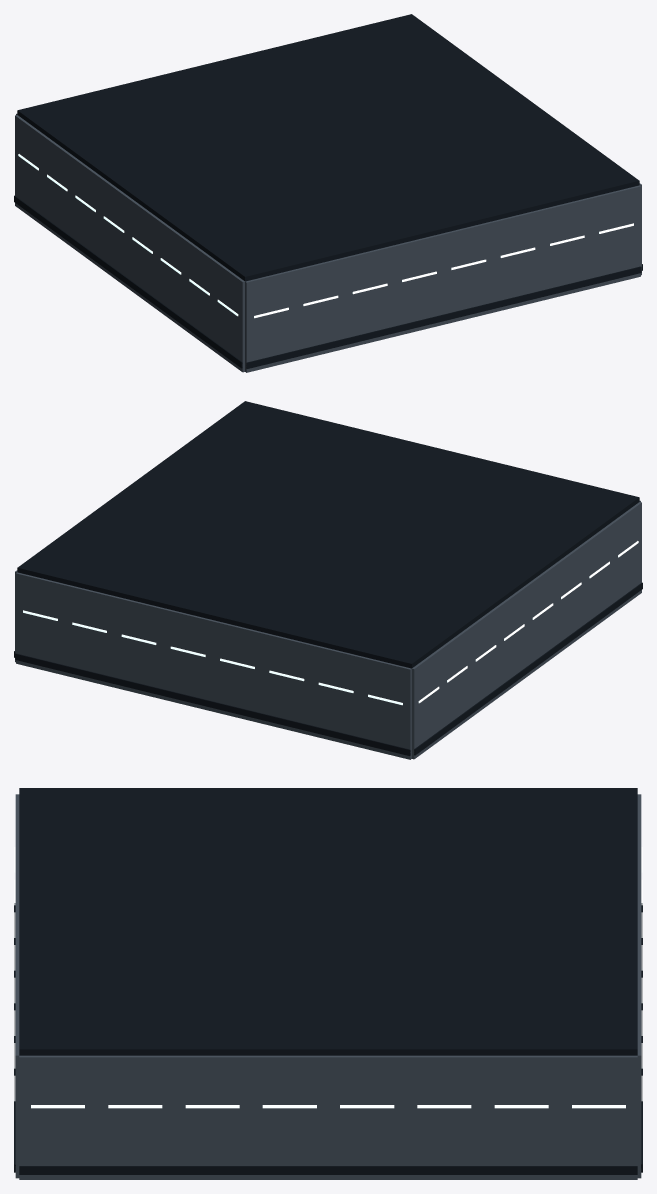
The model's file is np_z03_zone_synthese.glb.
The picture shows the model from 3 angles, top to bottom: view 1: azimuth 30°, elevation 25°; view 2: azimuth 150°, elevation 25°; view 3: azimuth 270°, elevation 25°; orthographic projection. The views are drawn at different scales.
Visible parts, largest first — view 1: Panneau18, Panneau30, Panneau20, Panneau22, Panneau26, Panneau32, Panneau24, Panneau28, Panneau15, Panneau13, Panneau5, Panneau (+68 smaller); view 2: Panneau17, Panneau29, Panneau19, Panneau21, Panneau25, Panneau31, Panneau23, Panneau27, Panneau, Panneau3, Panneau11, Panneau5 (+68 smaller); view 3: Panneau4, Panneau6, Panneau12, Panneau14, Panneau2, Panneau8, Panneau16, Panneau10, Dalle114, Dalle120, Dalle128, Dalle116 (+70 smaller).
Part boxes in pixels (left/top/right/bottom): Panneau18: left=245, top=269, right=295, bottom=372; Panneau30: left=541, top=197, right=591, bottom=300; Panneau20: left=294, top=257, right=345, bottom=360; Panneau22: left=344, top=245, right=394, bottom=348; Panneau26: left=442, top=221, right=492, bottom=324; Panneau32: left=590, top=185, right=640, bottom=288; Panneau24: left=393, top=233, right=443, bottom=336; Panneau28: left=492, top=209, right=542, bottom=312; Panneau15: left=214, top=261, right=244, bottom=372; Panneau13: left=185, top=240, right=216, bottom=351; Panneau5: left=72, top=156, right=102, bottom=267; Panneau: left=15, top=115, right=45, bottom=225; Panneau17: left=361, top=656, right=411, bottom=759; Panneau29: left=65, top=584, right=115, bottom=687; Panneau19: left=311, top=644, right=362, bottom=747; Panneau21: left=262, top=632, right=312, bottom=735; Panneau25: left=164, top=608, right=214, bottom=711; Panneau31: left=16, top=572, right=66, bottom=675; Panneau23: left=213, top=620, right=263, bottom=723; Panneau27: left=114, top=596, right=164, bottom=699; Panneau: left=412, top=648, right=442, bottom=759; Panneau3: left=440, top=627, right=471, bottom=738; Panneau11: left=554, top=543, right=584, bottom=654; Panneau5: left=469, top=606, right=499, bottom=717; Panneau4: left=483, top=1055, right=560, bottom=1179; Panneau6: left=405, top=1055, right=482, bottom=1179; Panneau12: left=174, top=1055, right=251, bottom=1179; Panneau14: left=96, top=1055, right=173, bottom=1179; Panneau2: left=560, top=1055, right=637, bottom=1179; Panneau8: left=328, top=1055, right=405, bottom=1179; Panneau16: left=19, top=1055, right=96, bottom=1179; Panneau10: left=251, top=1055, right=328, bottom=1179; Dalle114: left=560, top=1016, right=637, bottom=1055; Dalle120: left=328, top=1016, right=405, bottom=1055; Dalle128: left=19, top=1016, right=96, bottom=1055; Dalle116: left=483, top=1016, right=560, bottom=1055.
Size of the model in its own units: 16.28 by 3.68 by 16.28.
